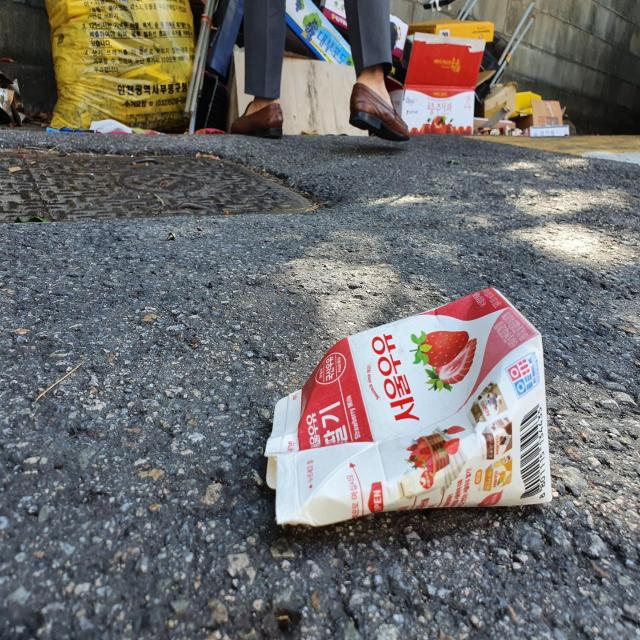paperpack: (265, 287, 553, 526)
